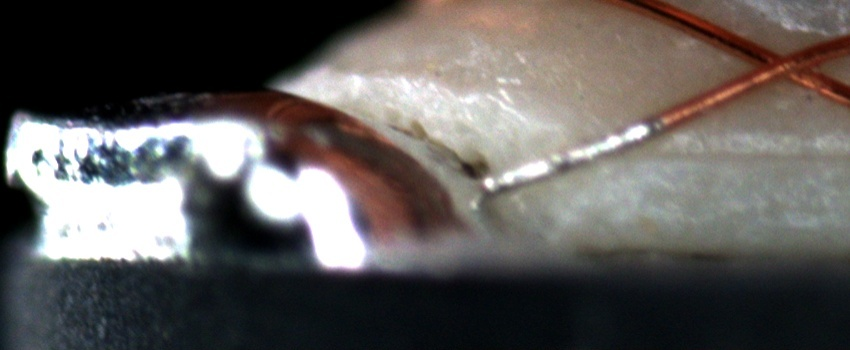CL: (731, 37, 825, 92)
DL: (649, 125, 850, 189)
TS: (482, 120, 660, 192)
